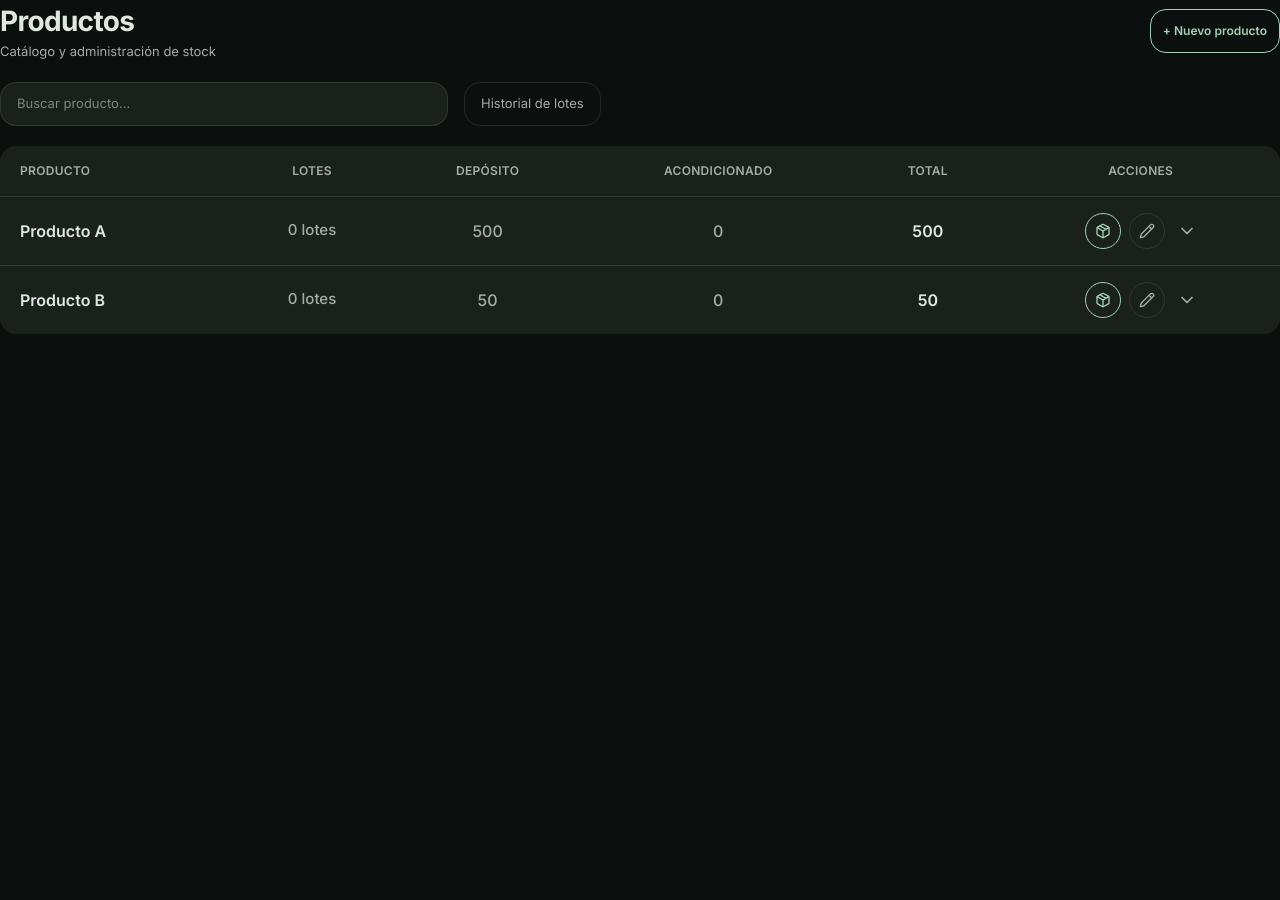
Test: ProductosPage › no renderiza SKU al abrir el modal de Editar producto
Expected: the heading "Productos" is shown, [0,4,134,38]
What coordinates should you click on to do the following:
click the button named "Editar" in the row of "Producto A"
I would click on:
 (1147, 230)
Its box is [1129,212,1165,248].
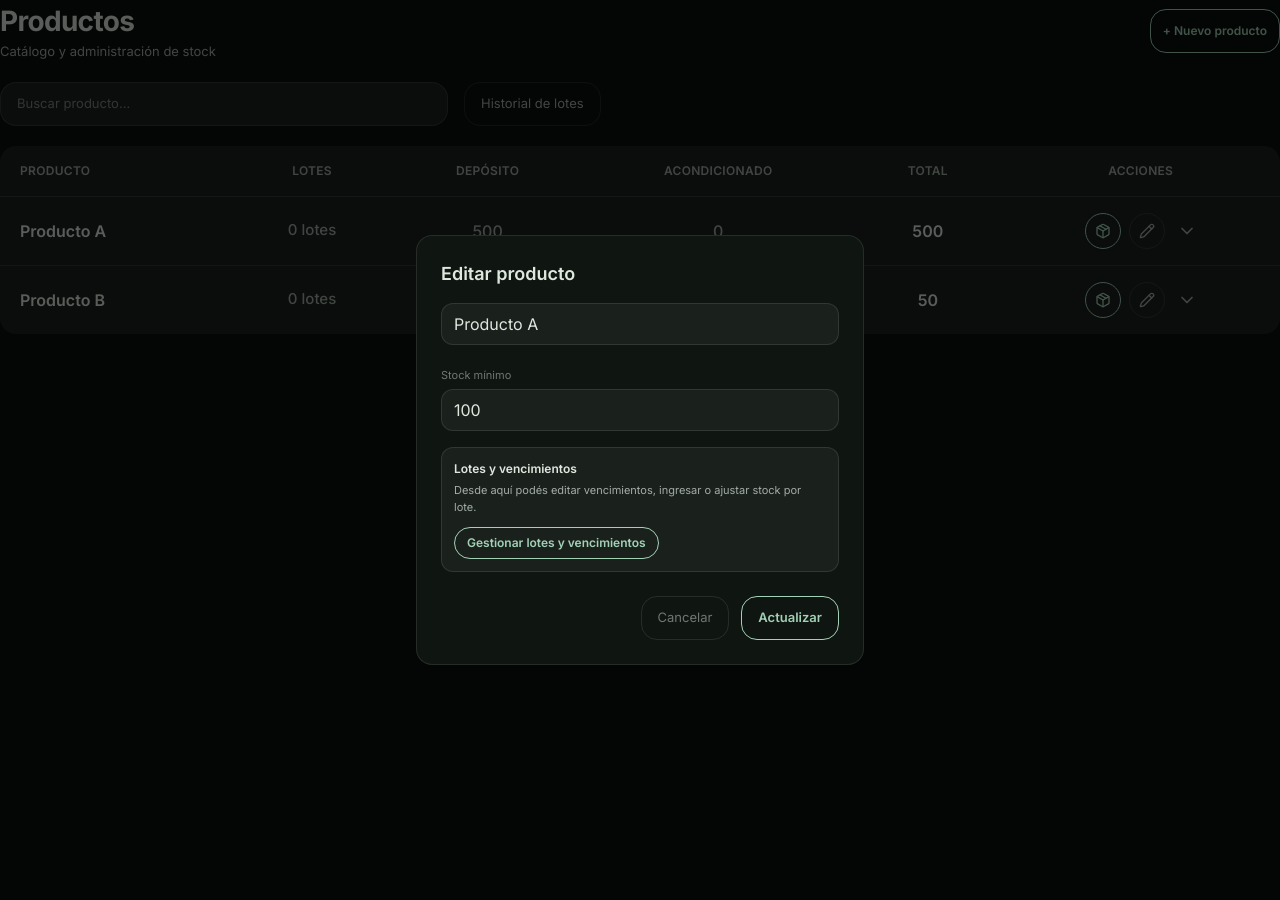
Now the heading "Editar producto" is shown, box [441,263,575,284]
